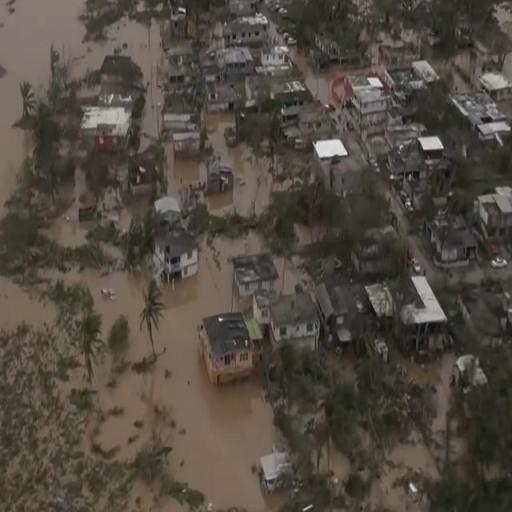flood: (0, 232, 280, 512), (0, 0, 168, 217), (363, 352, 457, 512), (382, 181, 482, 308), (46, 151, 150, 247), (207, 111, 274, 216), (291, 47, 379, 104), (160, 132, 206, 208), (434, 47, 477, 92), (329, 448, 353, 490), (275, 258, 300, 293), (294, 223, 324, 251)
house: (398, 272, 448, 354), (200, 312, 256, 385), (269, 292, 320, 353), (457, 92, 508, 148), (342, 76, 388, 134), (429, 216, 477, 267), (476, 188, 512, 252), (158, 228, 199, 282), (81, 105, 130, 150), (282, 100, 327, 147), (233, 250, 276, 294), (224, 16, 270, 50), (198, 157, 233, 192), (100, 50, 131, 88), (158, 96, 190, 130), (207, 79, 234, 114), (217, 48, 250, 76), (260, 46, 288, 77), (173, 131, 199, 152)
